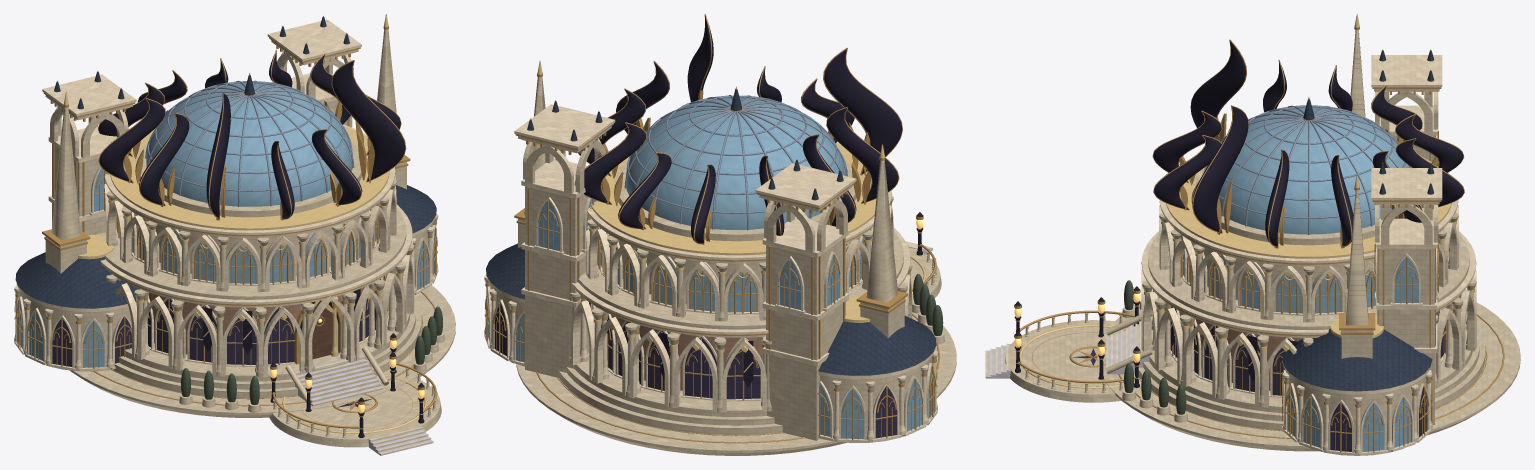
Rendered from grandloft-hall.glb.
The picture shows the model from 3 angles, left to right: view 1: azimuth 30°, elevation 25°; view 2: azimuth 150°, elevation 25°; view 3: azimuth 270°, elevation 25°; orthographic projection. The views are drawn at different scales.
Size of the model in its own units: 23.79 by 16.06 by 26.55.
Materials: 14 (14 with a texture image).
